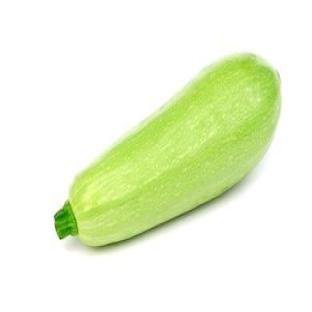Zucchini: (55, 54, 280, 245)
